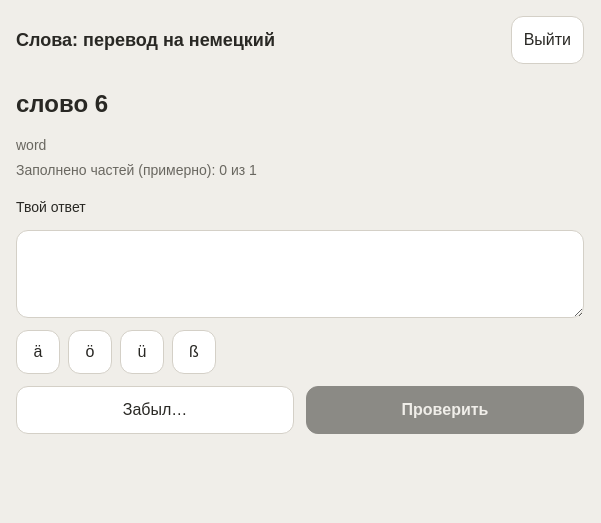
Test: the written quiz: the own association after a mistake › an older core without the key: no block
Expected: the heading "слово 6" is shown, [16,90,108,117]
Type "falsch" into the text box at (300, 274), box [16,230,584,318]
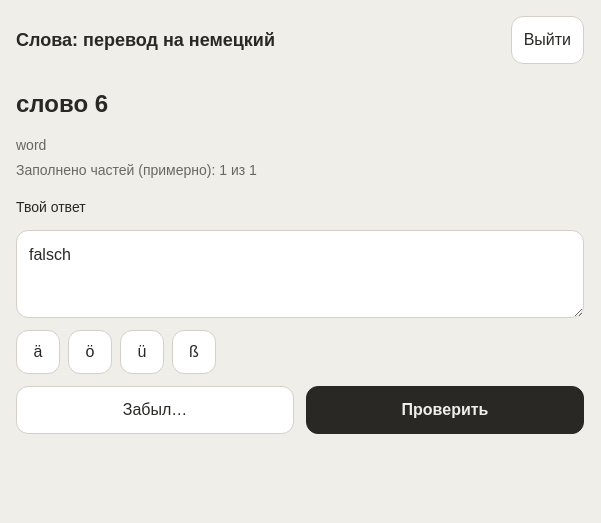
Click the button "Проверить" at (445, 410), box [306,386,584,434]
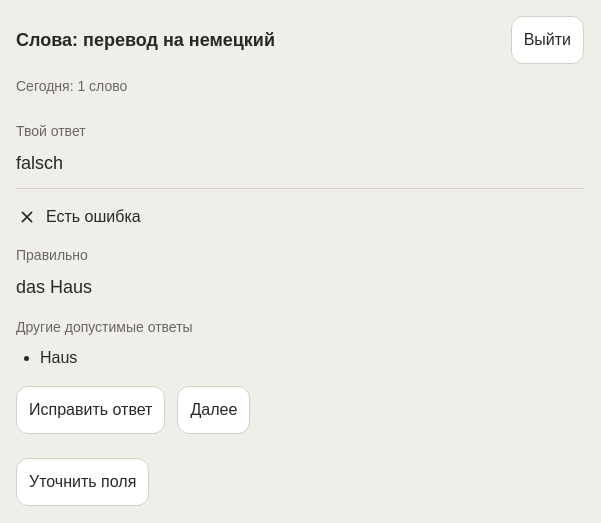
Expected: the text "Есть ошибка" is shown, [16,206,141,228]
